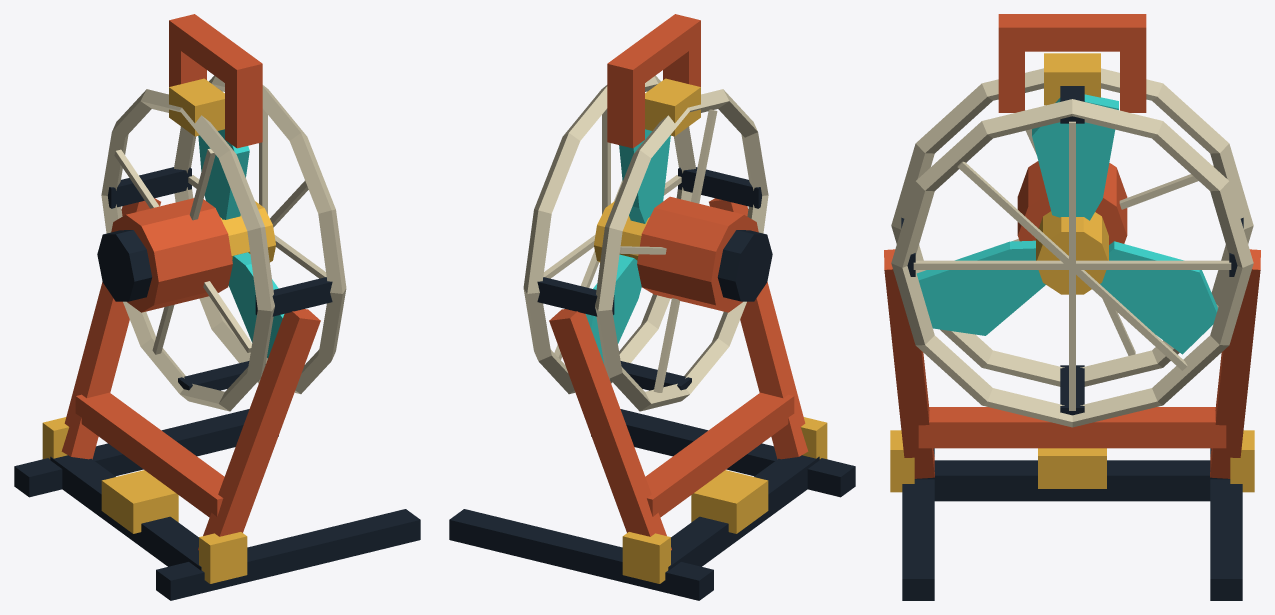
The model's file is industrial-circulator-v1-CitRhKQs.glb.
The picture shows the model from 3 angles, left to right: view 1: azimuth 30°, elevation 25°; view 2: azimuth 150°, elevation 25°; view 3: azimuth 270°, elevation 25°; orthographic projection. The views are drawn at different scales.
Parts seen in each view (by area): view 1: ICV1_FoldingStand, ICV1_RoundGuardRims, ICV1_FoldingBase, ICV1_MotorHousing, ICV1_CarryHandle, ICV1_GuardBridges, ICV1_BaseLatch, ICV1_MotorBackCap, ICV1_FoldHingeCaps, ICV1_RearGuardGrid, ICV1_ThreeStepControl, ICV1_FrontGuardGrid (+3 smaller); view 2: ICV1_FoldingStand, ICV1_RoundGuardRims, ICV1_FoldingBase, ICV1_MotorHousing, ICV1_CarryHandle, ICV1_GuardBridges, ICV1_BaseLatch, ICV1_MotorBackCap, ICV1_FoldHingeCaps, ICV1_ThreeStepControl, ICV1_RearGuardGrid, ICV1_Blade_1 (+3 smaller); view 3: ICV1_RoundGuardRims, ICV1_FoldingStand, ICV1_FoldingBase, ICV1_CarryHandle, ICV1_FrontGuardGrid, ICV1_Blade_2, ICV1_Blade_3, ICV1_Blade_1, ICV1_RotorHub, ICV1_MotorHousing, ICV1_BaseLatch, ICV1_ThreeStepControl (+3 smaller).
Boxes of the visible parts, bbox=[...] form: ICV1_FoldingStand: bbox=[61, 198, 320, 550]; ICV1_RoundGuardRims: bbox=[101, 75, 346, 411]; ICV1_FoldingBase: bbox=[14, 409, 420, 600]; ICV1_MotorHousing: bbox=[111, 198, 232, 312]; ICV1_CarryHandle: bbox=[169, 14, 262, 148]; ICV1_GuardBridges: bbox=[108, 167, 332, 390]; ICV1_BaseLatch: bbox=[101, 470, 178, 533]; ICV1_MotorBackCap: bbox=[97, 230, 152, 301]; ICV1_FoldHingeCaps: bbox=[42, 417, 247, 583]; ICV1_RearGuardGrid: bbox=[114, 148, 251, 354]; ICV1_ThreeStepControl: bbox=[169, 78, 224, 136]; ICV1_FrontGuardGrid: bbox=[188, 108, 326, 363]; ICV1_FoldingStand: bbox=[549, 198, 808, 550]; ICV1_RoundGuardRims: bbox=[523, 75, 768, 411]; ICV1_FoldingBase: bbox=[449, 409, 855, 600]; ICV1_MotorHousing: bbox=[637, 196, 758, 312]; ICV1_CarryHandle: bbox=[607, 14, 700, 148]; ICV1_GuardBridges: bbox=[537, 167, 761, 390]; ICV1_BaseLatch: bbox=[691, 470, 768, 533]; ICV1_MotorBackCap: bbox=[717, 230, 772, 301]; ICV1_FoldHingeCaps: bbox=[622, 417, 827, 583]; ICV1_ThreeStepControl: bbox=[645, 78, 700, 136]; ICV1_RearGuardGrid: bbox=[619, 109, 717, 392]; ICV1_Blade_1: bbox=[619, 129, 670, 223]; ICV1_RoundGuardRims: bbox=[891, 68, 1253, 427]; ICV1_FoldingStand: bbox=[884, 249, 1260, 478]; ICV1_FoldingBase: bbox=[902, 448, 1242, 600]; ICV1_CarryHandle: bbox=[998, 14, 1146, 112]; ICV1_FrontGuardGrid: bbox=[913, 121, 1231, 410]; ICV1_Blade_2: bbox=[916, 240, 1045, 335]; ICV1_Blade_3: bbox=[1100, 241, 1217, 354]; ICV1_Blade_1: bbox=[1032, 94, 1118, 220]; ICV1_RotorHub: bbox=[1036, 211, 1108, 294]; ICV1_MotorHousing: bbox=[1017, 161, 1127, 244]; ICV1_BaseLatch: bbox=[1038, 448, 1106, 488]; ICV1_ThreeStepControl: bbox=[1044, 53, 1100, 105].
Bounding box in the file's own units: 1.55 × 2.8 × 1.86.
